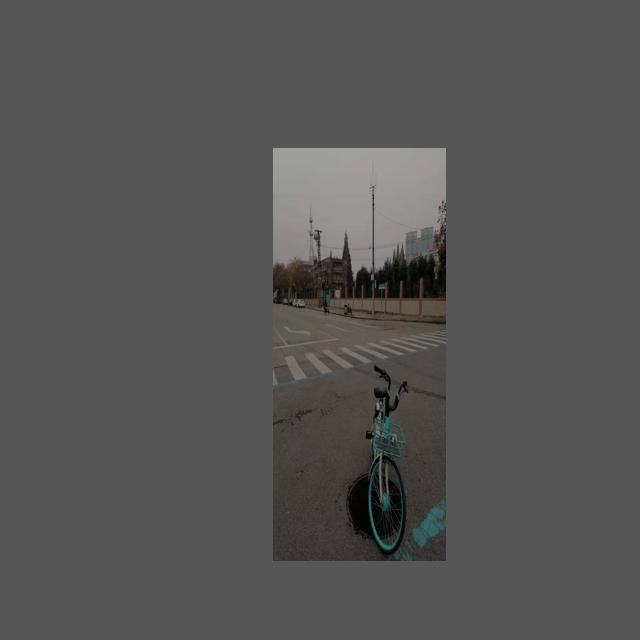lose: (347, 471, 404, 542)
